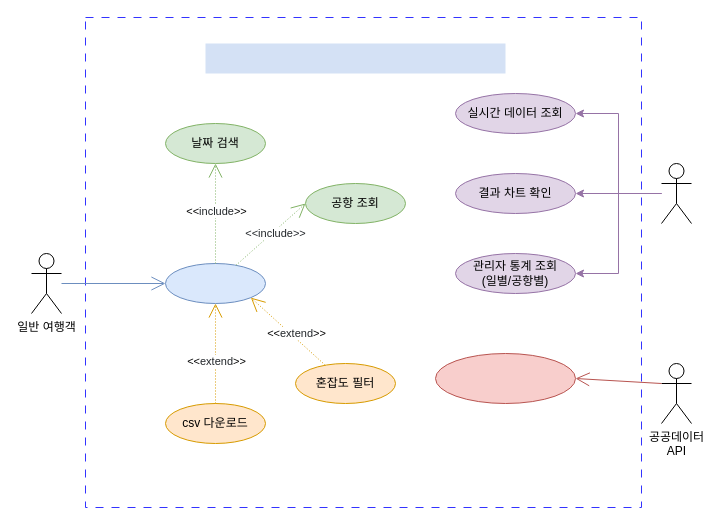
Image size: 723x525. Some labels were removed from this diagram. Each missing label, with the centre of its shape:
데이터 수집 (공공데이터 API 연동): point 505,378
예상 승객 조회: point 215,283
전국 공항 일별 예상 승객 분석 플랫폼: point 355,58
한국항공사 운영 담당자: point 676,193
